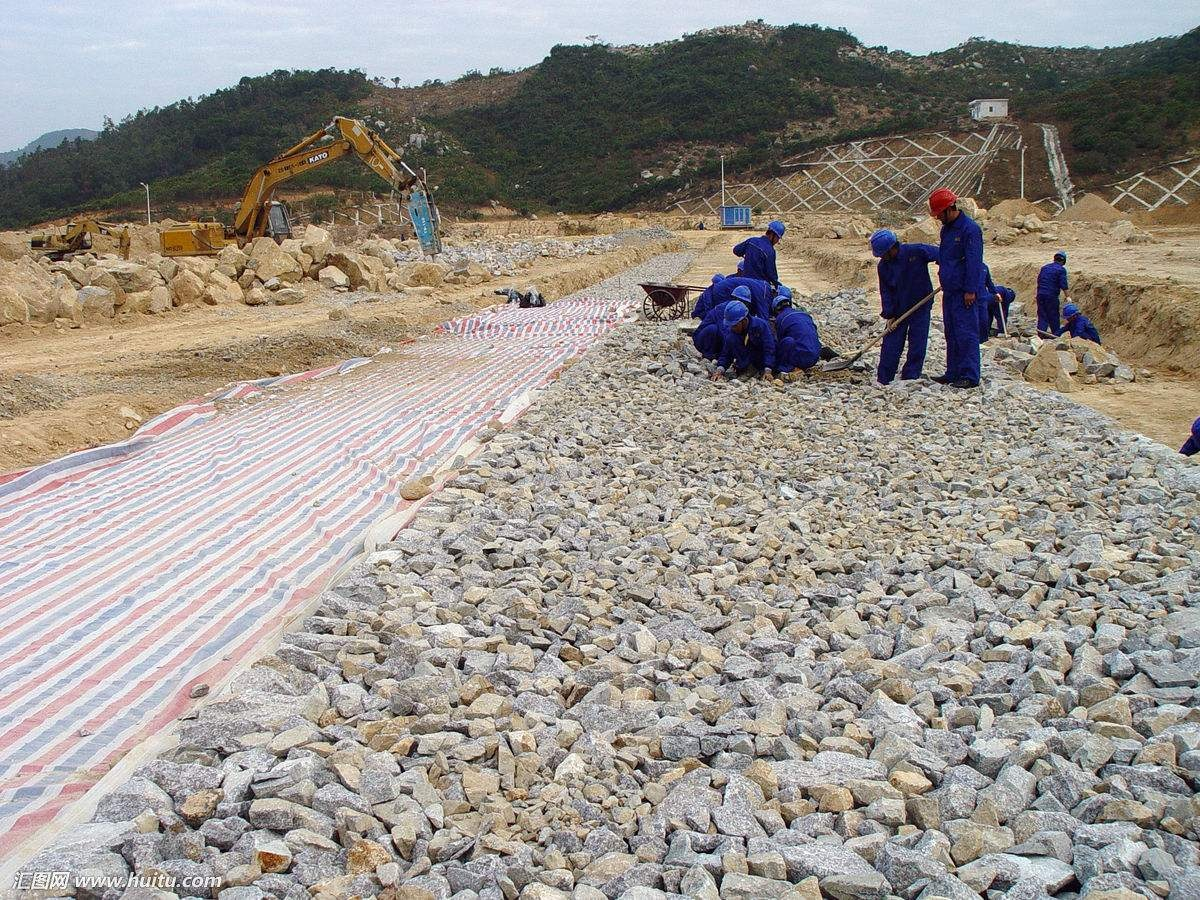blue: (867, 228, 898, 263), (721, 297, 750, 333), (763, 216, 787, 247), (769, 292, 791, 316), (1059, 302, 1078, 323), (1051, 250, 1068, 269)
red: (925, 185, 960, 227)
